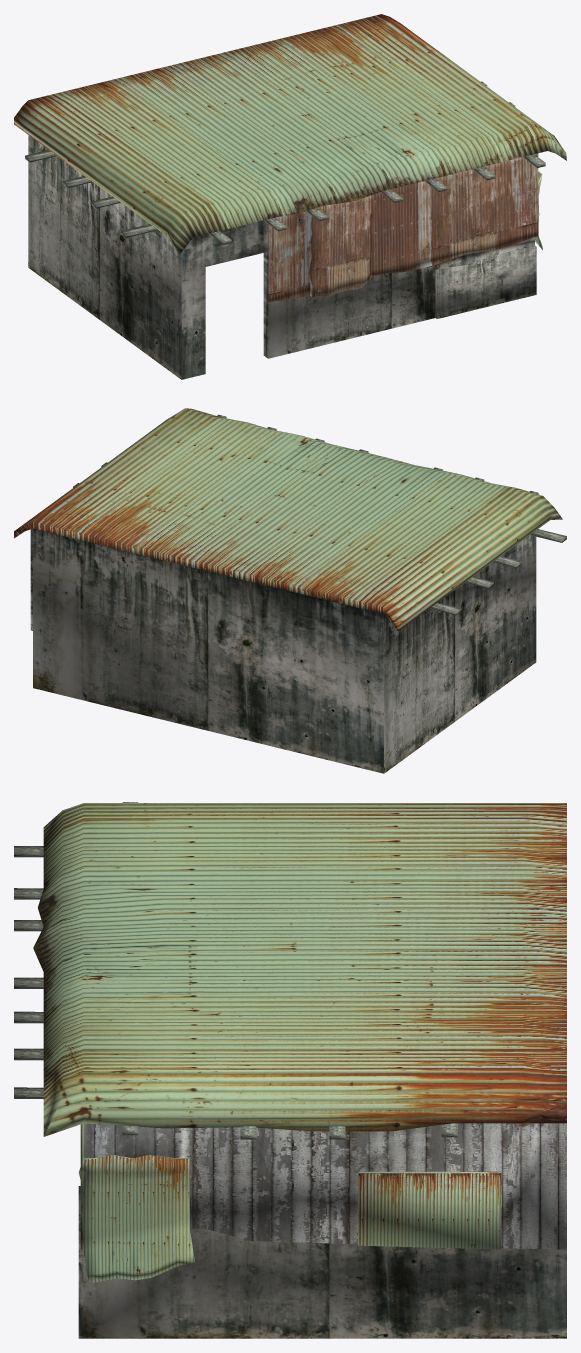
File: shanty15.dae
The picture shows the model from 3 angles, top to bottom: view 1: azimuth 30°, elevation 25°; view 2: azimuth 150°, elevation 25°; view 3: azimuth 270°, elevation 25°; orthographic projection. The views are drawn at different scales.
Parts seen in each view (by area): view 1: U3DMesh; view 2: U3DMesh; view 3: U3DMesh.
Part boxes in pixels (x1=…): U3DMesh: x1=14, y1=14, x2=566, y2=379; U3DMesh: x1=14, y1=408, x2=566, y2=773; U3DMesh: x1=14, y1=802, x2=566, y2=1338.
Bounding box in the file's own units: 310 × 118 × 221.
